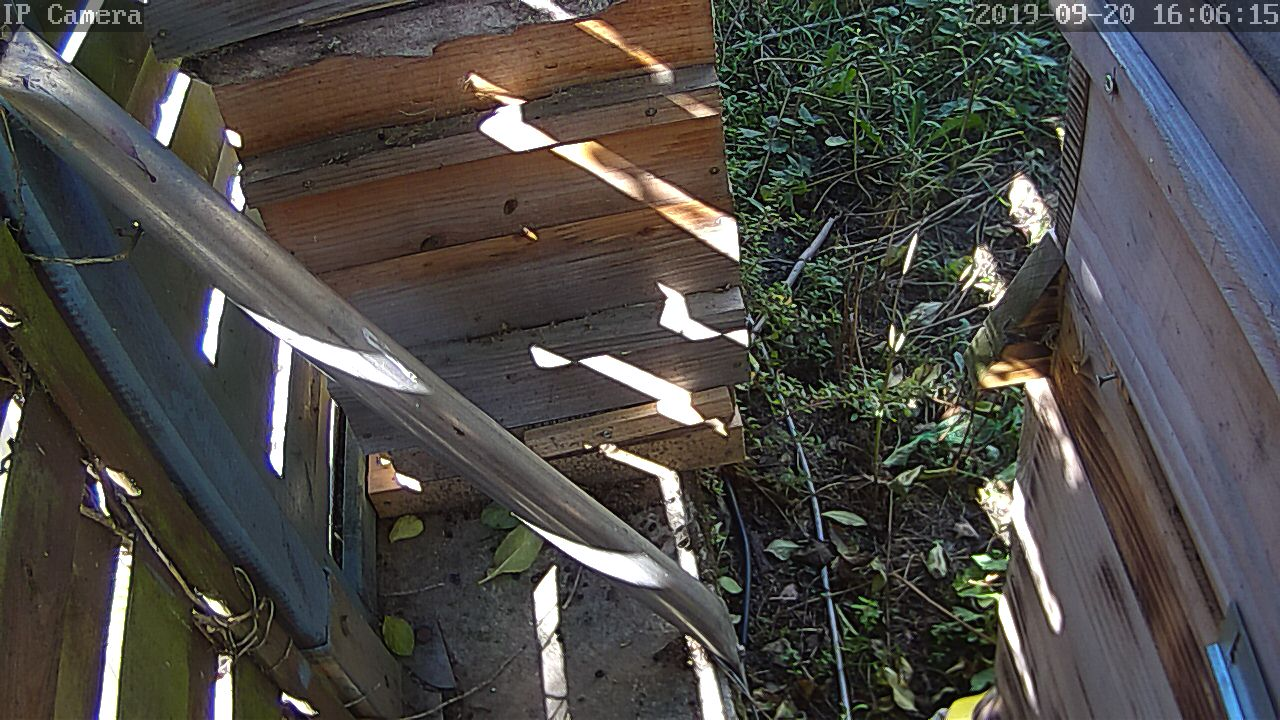hornet: (25, 0, 1230, 720)
